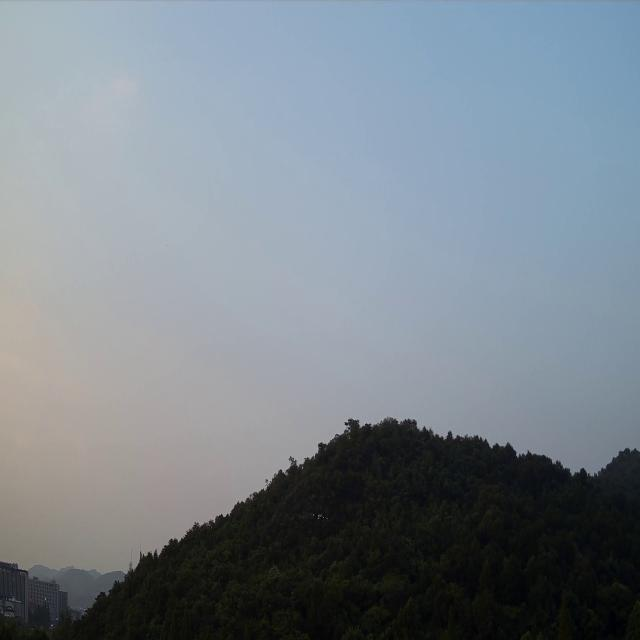UAV: (312, 510, 328, 522)
